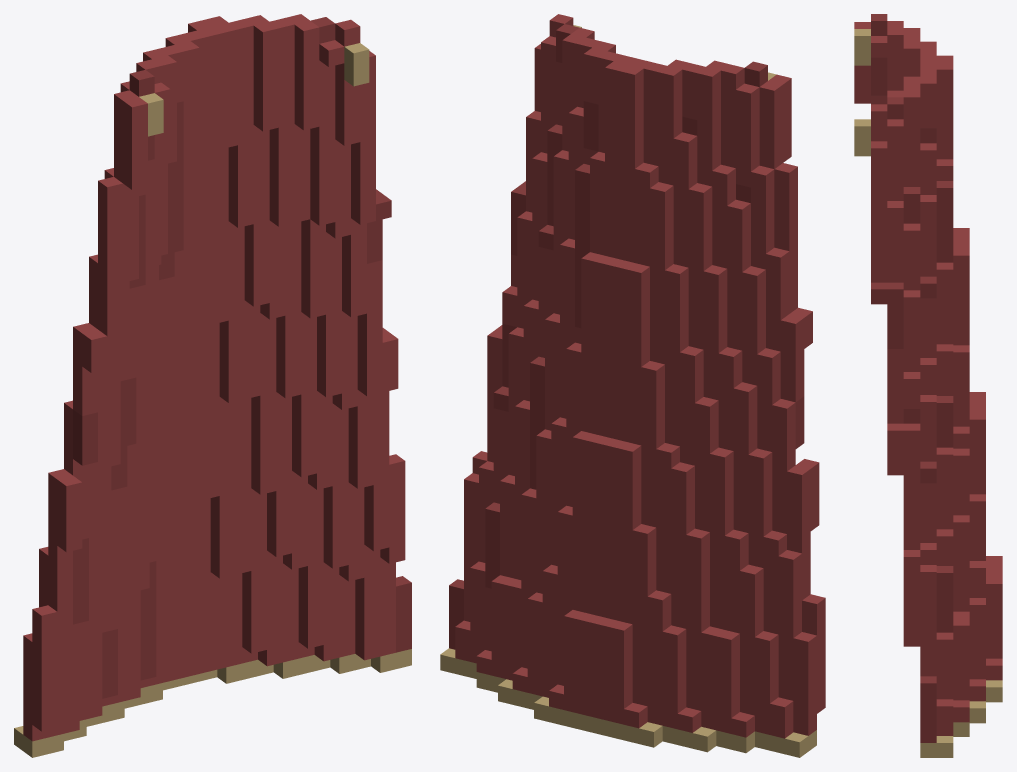
File: scale_rare_cloak_lod1.glb
3 views of the same model, side by side, from view 1: azimuth 30°, elevation 25°; view 2: azimuth 150°, elevation 25°; view 3: azimuth 270°, elevation 25° (orthographic). The views are drawn at different scales.
Visible parts, largest first — view 1: scale_rare_cloak_lod1; view 2: scale_rare_cloak_lod1; view 3: scale_rare_cloak_lod1.
Boxes of the visible parts, x1=… form: scale_rare_cloak_lod1: x1=14, y1=14, x2=411, y2=757; scale_rare_cloak_lod1: x1=440, y1=14, x2=825, y2=757; scale_rare_cloak_lod1: x1=854, y1=14, x2=1002, y2=757.
Size of the model in its own units: 0.576 by 0.984 by 0.216.
